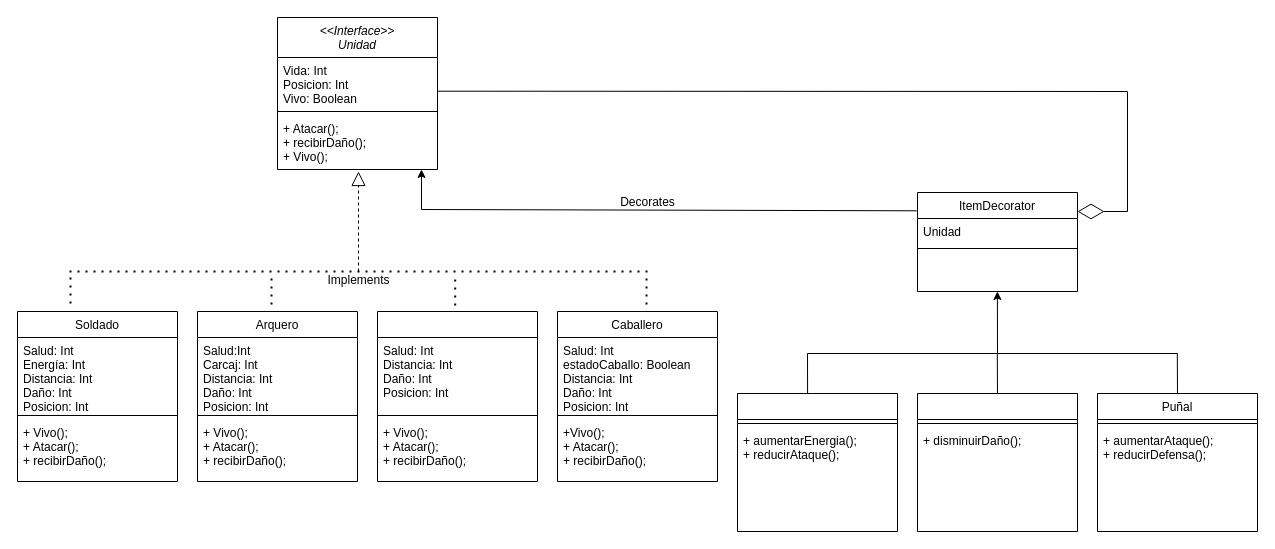
This 1275x549 diagram has some shape labels left out. Each missing label, with the box of its shape:
Capa: (736, 392, 898, 532)
Escudo: (916, 392, 1078, 532)
Lancero: (376, 310, 538, 482)
